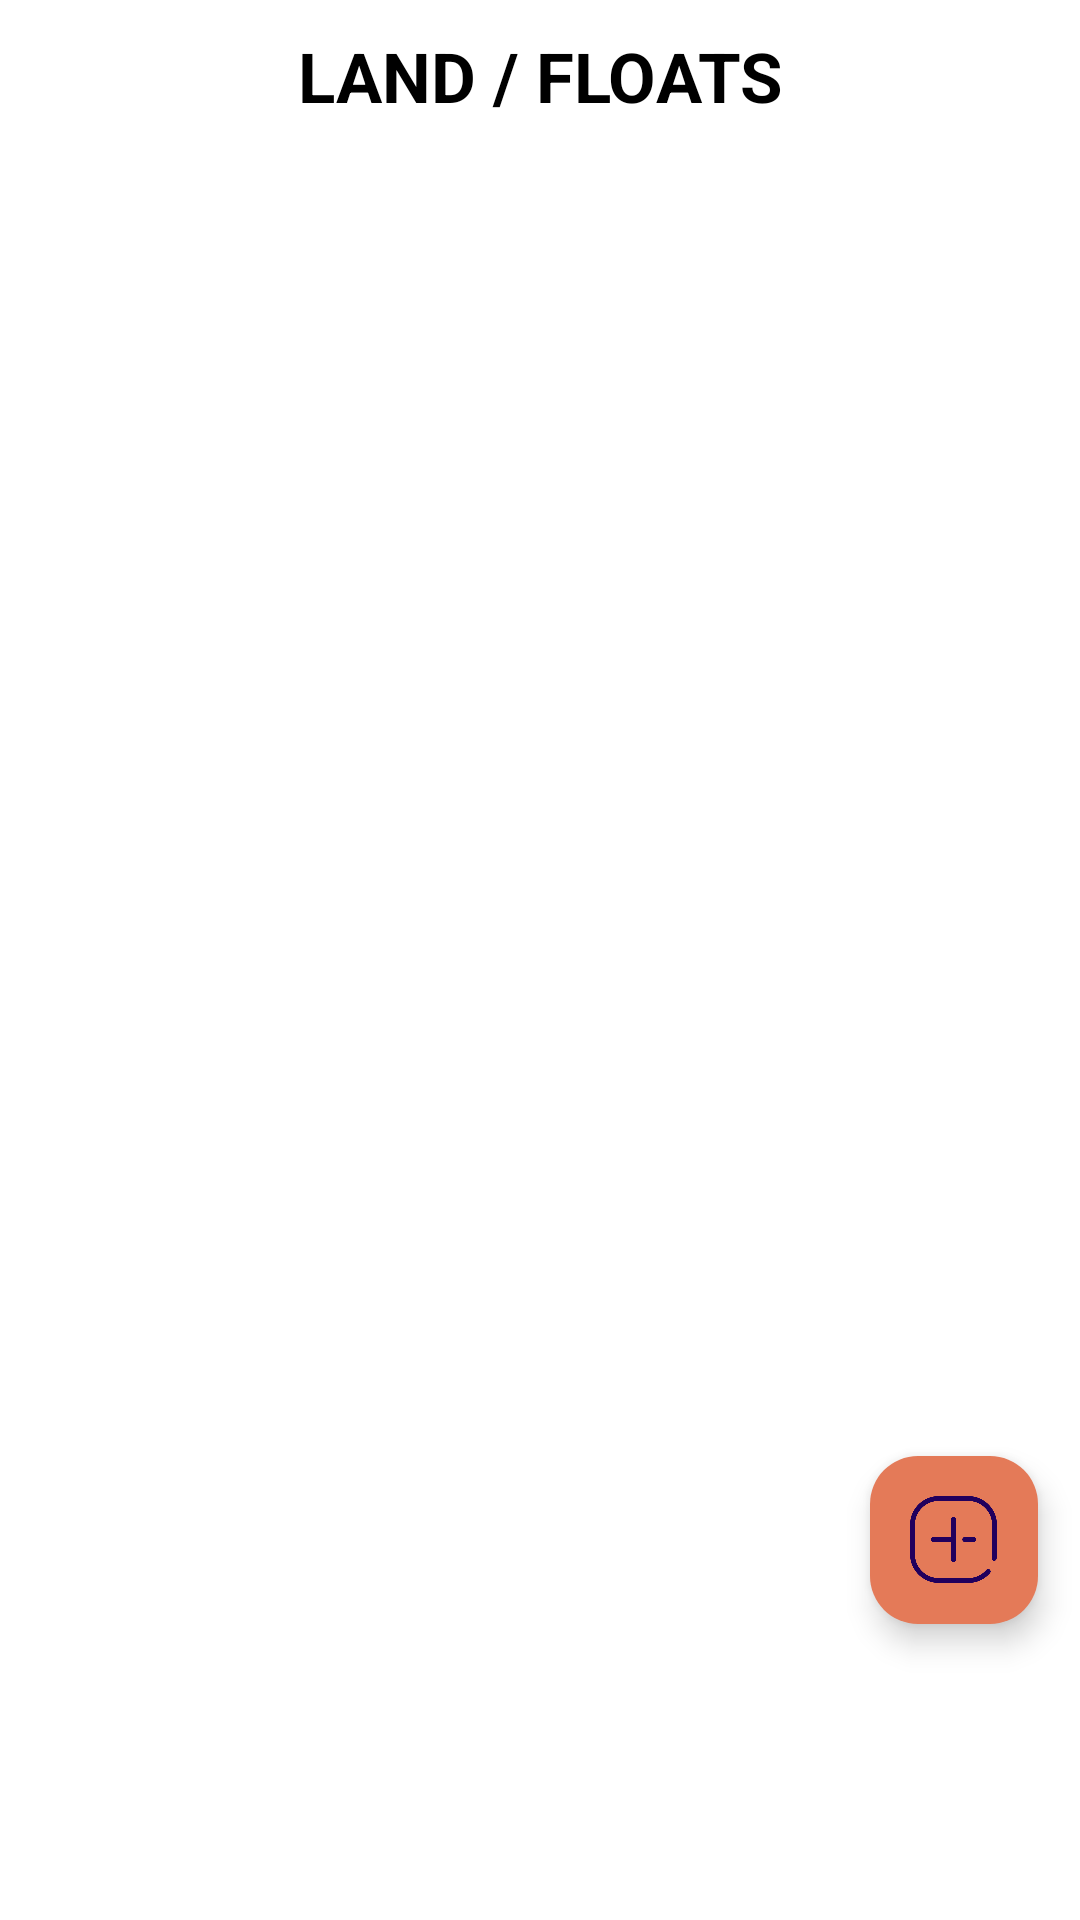

Point at icon controls on the screen. Image size 1080px×1920px, points as (x,y).
add: (954,1540)
